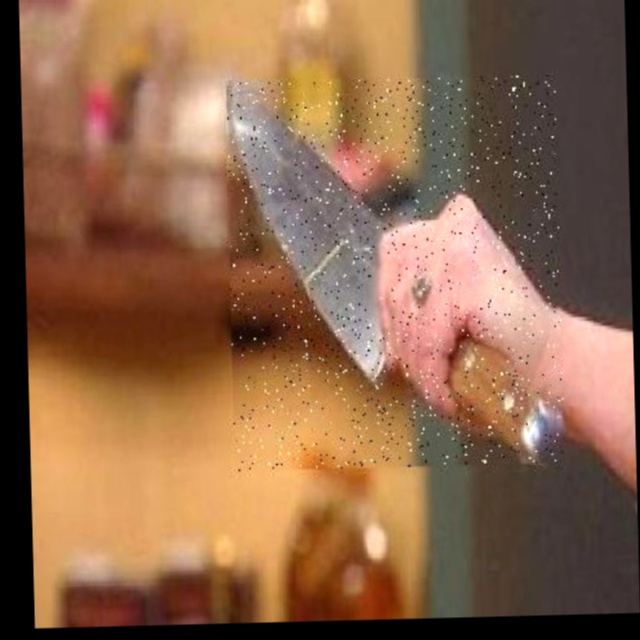Sharp-Object: (224, 75, 564, 471)
